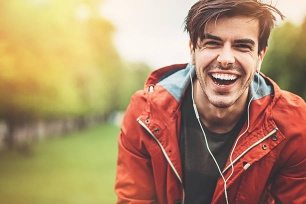male: (187, 11, 265, 105)
